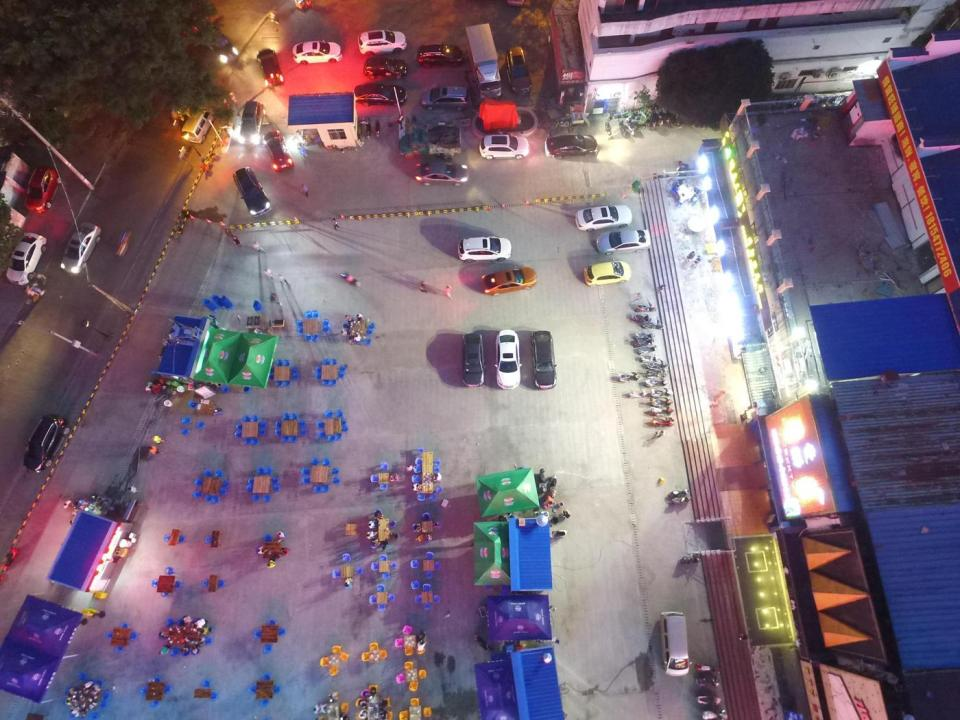car: (22, 413, 70, 474), (6, 232, 48, 286), (59, 222, 100, 274), (231, 167, 271, 217), (24, 166, 62, 213), (494, 329, 522, 390), (482, 266, 538, 296), (530, 331, 558, 390), (575, 204, 633, 231), (456, 236, 512, 263), (461, 332, 487, 388), (544, 133, 598, 159), (596, 229, 650, 255), (584, 257, 632, 286), (292, 39, 344, 65), (358, 29, 408, 56), (262, 130, 294, 172), (478, 134, 529, 160), (354, 82, 407, 107), (415, 162, 468, 186), (505, 47, 532, 94), (416, 42, 464, 68), (421, 86, 469, 112), (256, 48, 284, 91), (239, 100, 266, 144), (363, 56, 407, 79), (208, 34, 240, 65)
van: (465, 22, 502, 102), (398, 125, 462, 160), (659, 612, 692, 674), (181, 107, 215, 145)
